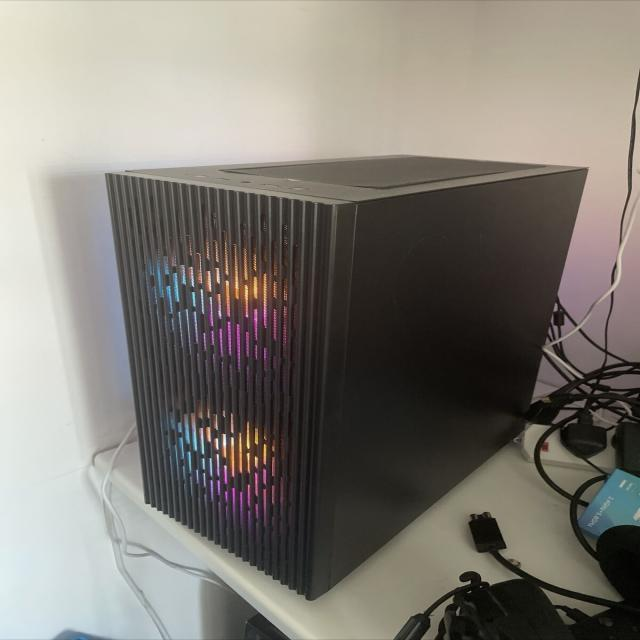Desktop-PC: (90, 142, 606, 608)
